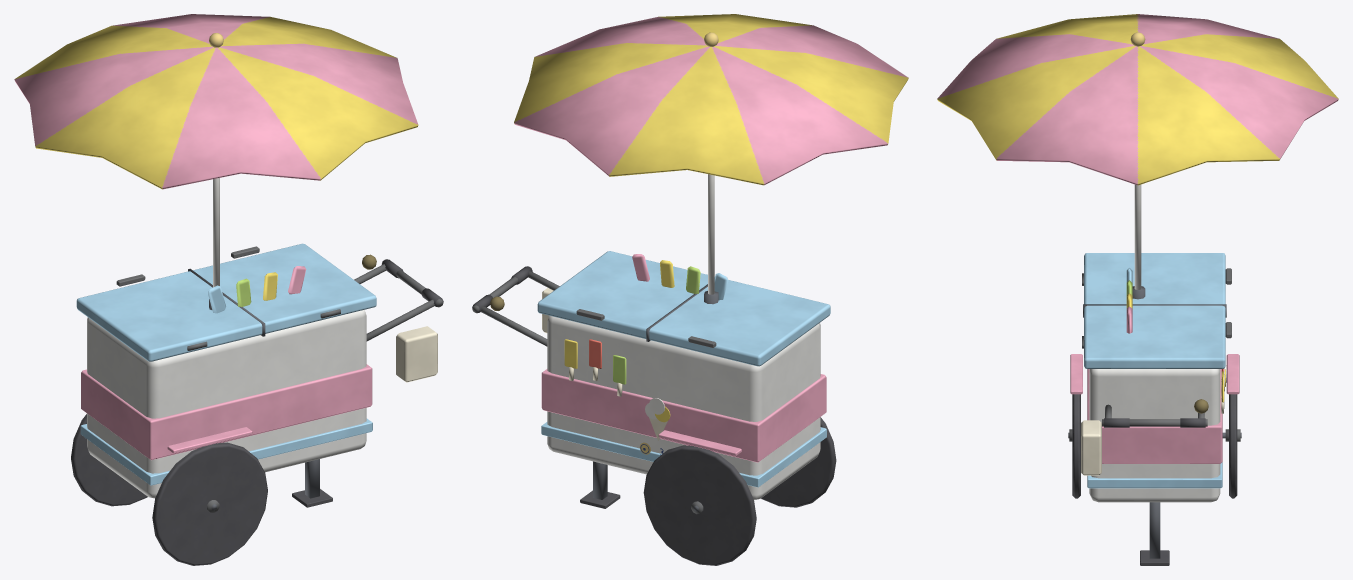
Rendered from Calor_IceCreamCart.fbx.
3 views of the same model, side by side, from view 1: azimuth 30°, elevation 25°; view 2: azimuth 150°, elevation 25°; view 3: azimuth 270°, elevation 25° (orthographic). The views are drawn at different scales.
Visible parts, largest first — view 1: Calor_IceCreamCart; view 2: Calor_IceCreamCart; view 3: Calor_IceCreamCart.
Part boxes in pixels (x1,y1,x2,y2): Calor_IceCreamCart: (14, 14, 443, 565); Calor_IceCreamCart: (472, 14, 908, 565); Calor_IceCreamCart: (937, 14, 1338, 565).
Size of the model in its own units: 2.05 by 2.49 by 1.9.
Materials: 1 (1 with a texture image).
